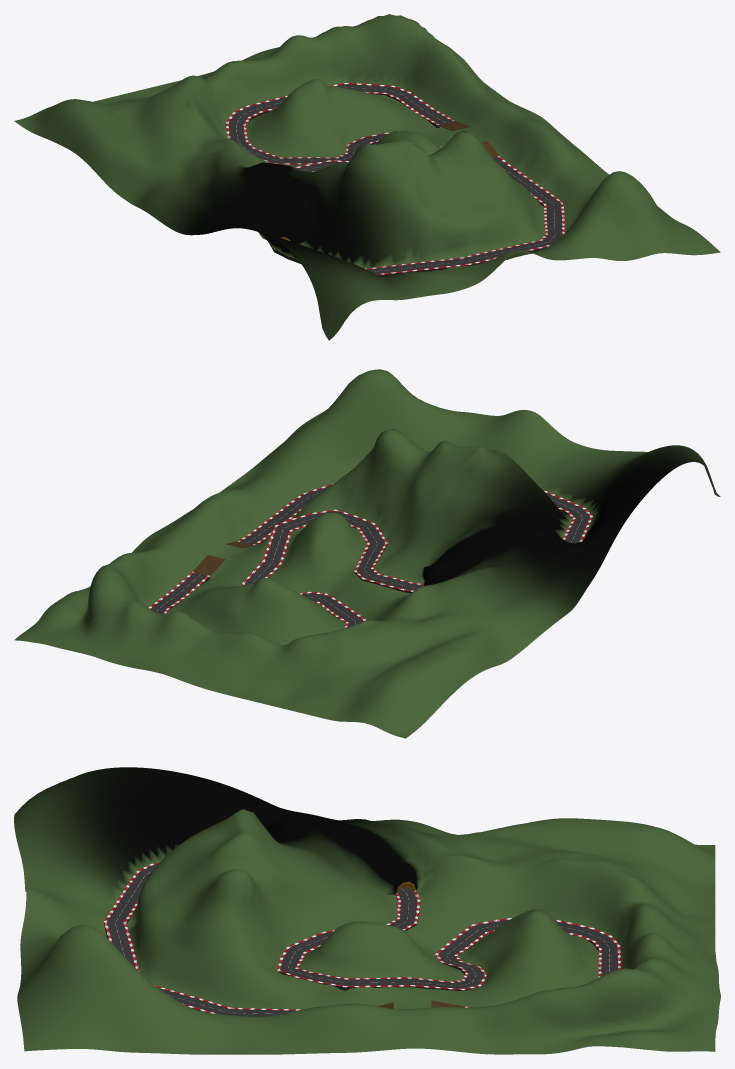
Rendered from map_circuito.fbx.
3 views of the same model, one above another, from view 1: azimuth 30°, elevation 25°; view 2: azimuth 150°, elevation 25°; view 3: azimuth 270°, elevation 25° (orthographic). The views are drawn at different scales.
Visible parts, largest first — view 1: Plane.001, obj_road.001; view 2: Plane.001, obj_road.001; view 3: Plane.001, obj_road.001.
Part boxes in pixels (x1,y1,x2,y2): Plane.001: [14, 14, 720, 340]; obj_road.001: [226, 83, 564, 275]; Plane.001: [14, 369, 720, 738]; obj_road.001: [149, 483, 592, 628]; Plane.001: [14, 767, 720, 1054]; obj_road.001: [104, 863, 620, 1016].
Bounding box in the file's own units: 777 × 195 × 1077.
Materials: 5 (1 with a texture image).
